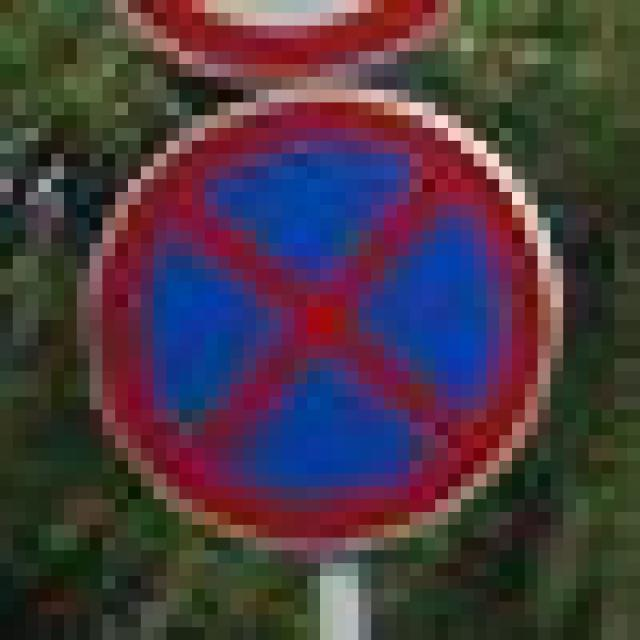no stopping or standing: (67, 78, 566, 558)
